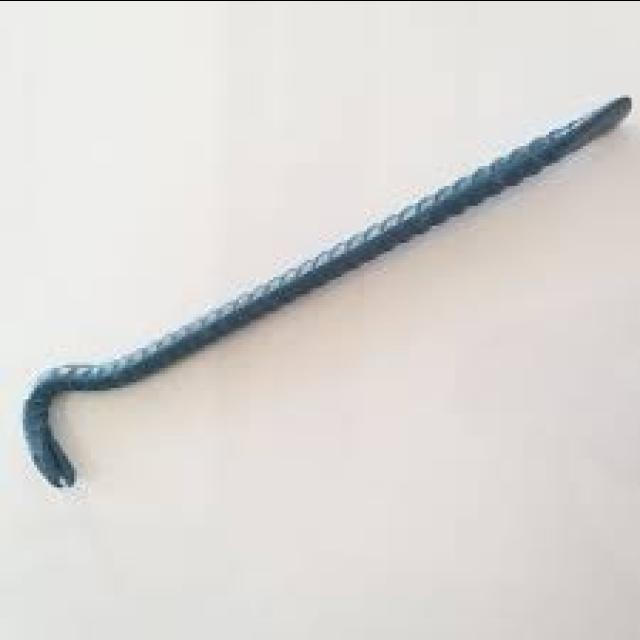Linggis: (20, 97, 632, 489)
